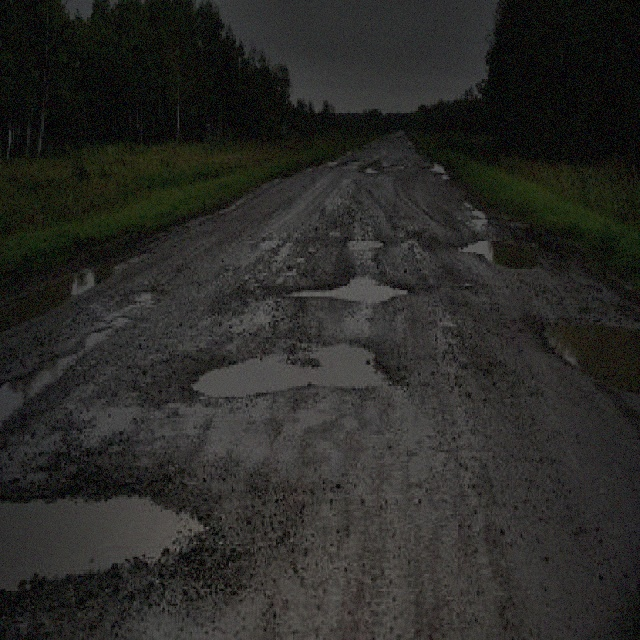pothole: (0, 479, 210, 599), (186, 335, 408, 399), (538, 312, 638, 391), (284, 271, 411, 305), (456, 228, 540, 273), (344, 232, 386, 252), (428, 158, 450, 179)
